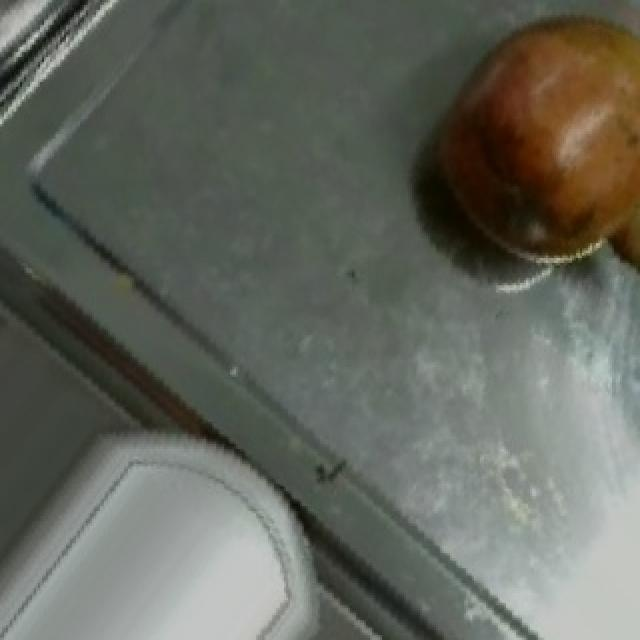fruit: (402, 0, 640, 278)
